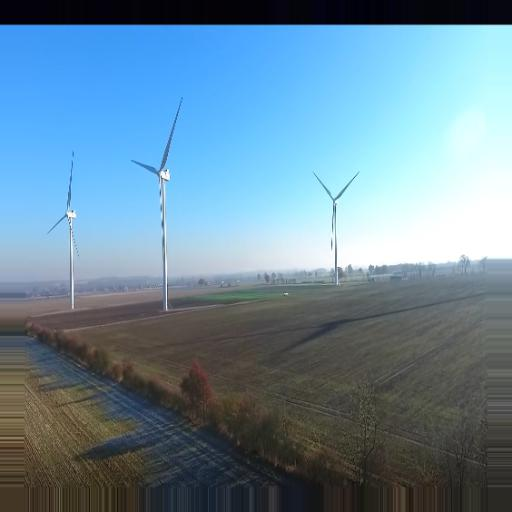wind turbine: (129, 95, 184, 308), (309, 169, 363, 289), (45, 150, 83, 310)
